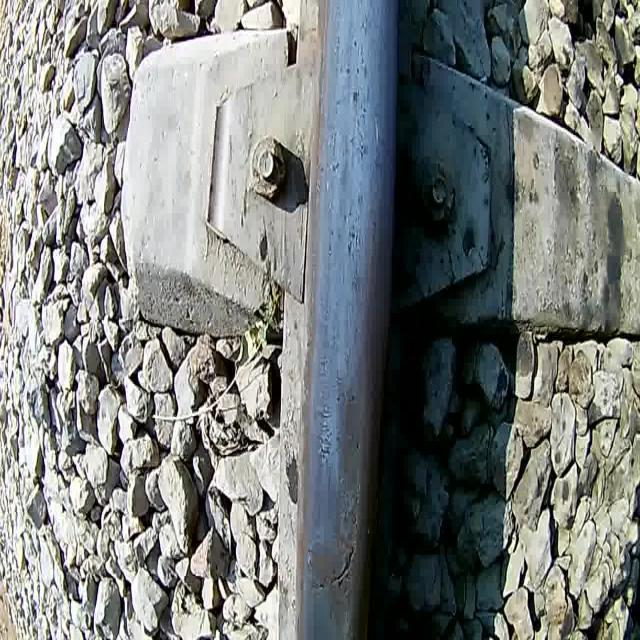Squats: (330, 381, 366, 500), (306, 538, 346, 620)
